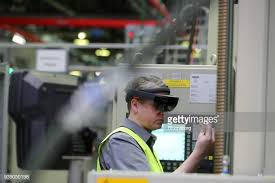hololens: (121, 85, 180, 114)
